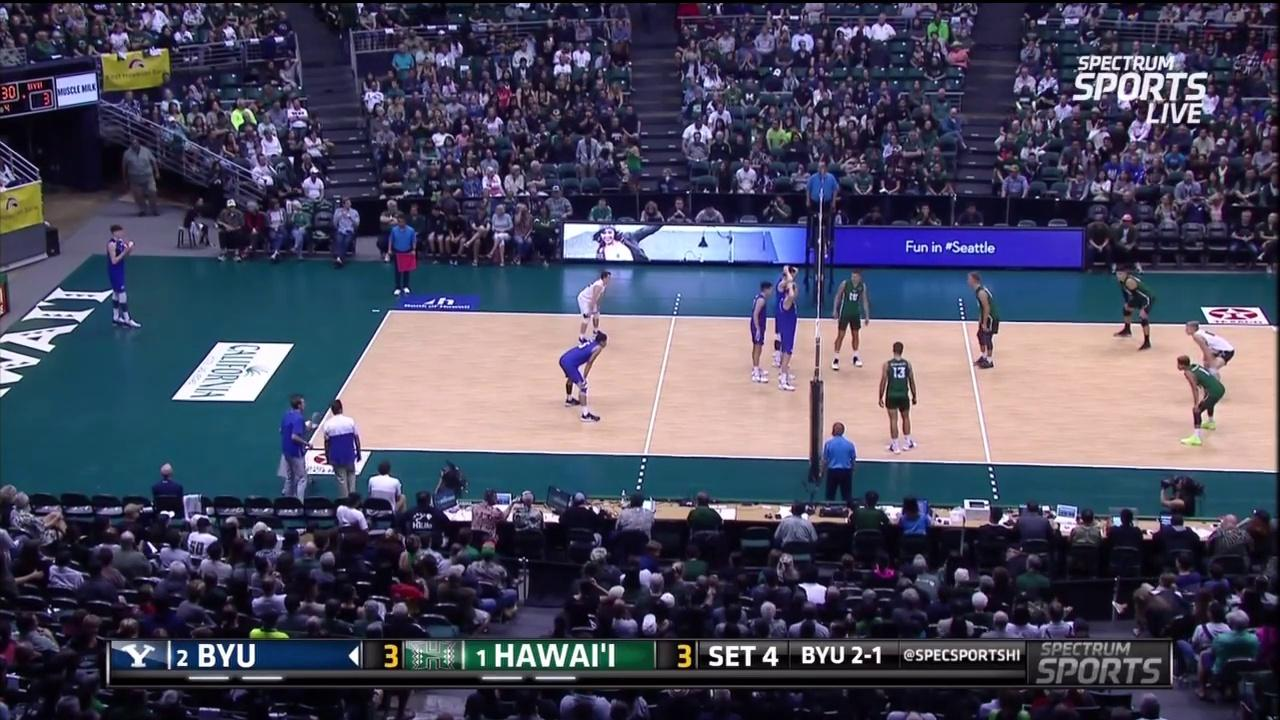player: (1172, 353, 1229, 449), (560, 332, 607, 423), (879, 342, 917, 450), (830, 268, 869, 369), (1181, 316, 1239, 383), (748, 278, 783, 384), (101, 226, 137, 329), (962, 272, 997, 367), (1113, 265, 1151, 349), (776, 279, 802, 401), (773, 261, 800, 368), (579, 268, 614, 349)
refree: (803, 156, 842, 266), (816, 423, 859, 503), (386, 212, 419, 297)
